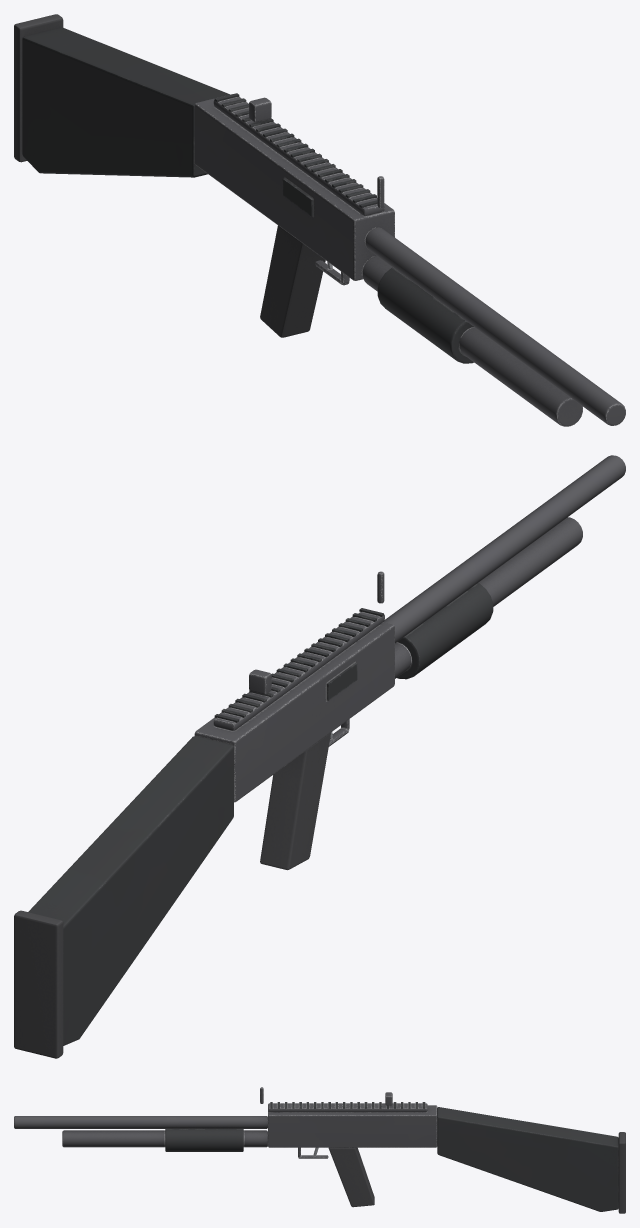
Rendered from nova.fbx.
3 renders of one model, top to bottom at view 1: azimuth 30°, elevation 25°; view 2: azimuth 150°, elevation 25°; view 3: azimuth 270°, elevation 25°, orthographic. The views are drawn at different scales.
Parts seen in each view (by area): view 1: nova; view 2: nova; view 3: nova.
Part boxes in pixels (x1,y1,x2,y2): nova: [14, 14, 625, 426]; nova: [14, 455, 625, 1058]; nova: [14, 1087, 625, 1213].
Size of the model in its own units: 0.0455 by 0.2208 by 1.01.
